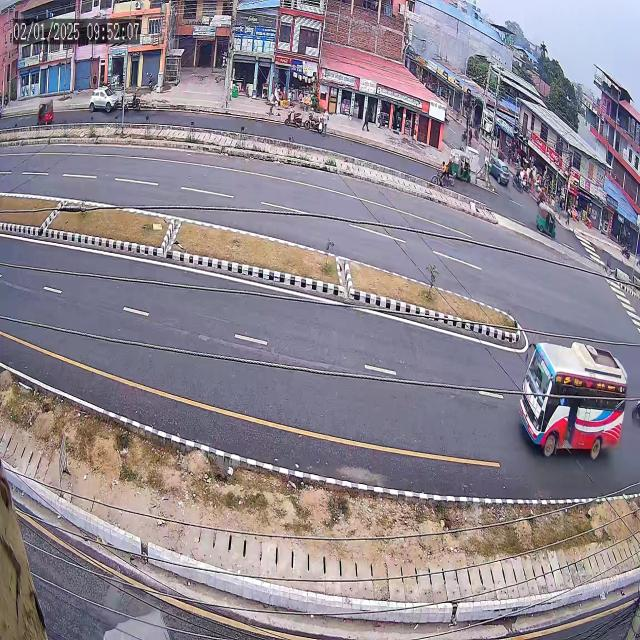auto: (532, 197, 562, 244), (447, 144, 477, 186), (33, 98, 63, 134)
bus: (502, 308, 630, 472)
car: (86, 74, 120, 123), (488, 152, 513, 191)
cycle: (430, 154, 450, 192)
motorcycle: (304, 100, 333, 138), (280, 103, 304, 133), (514, 158, 527, 201), (128, 89, 146, 116)
